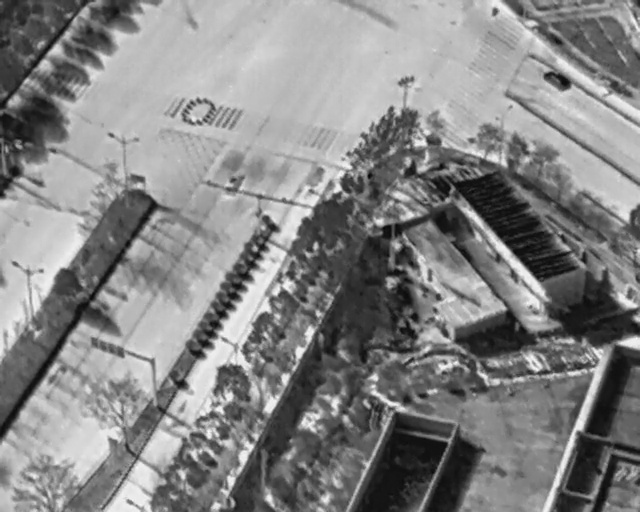Car: (540, 65, 575, 96), (224, 171, 243, 196)
